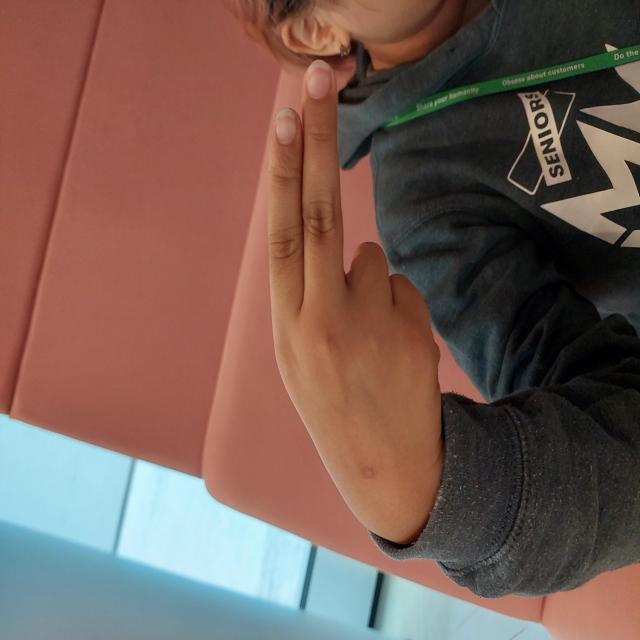H: (82, 260, 588, 449)
